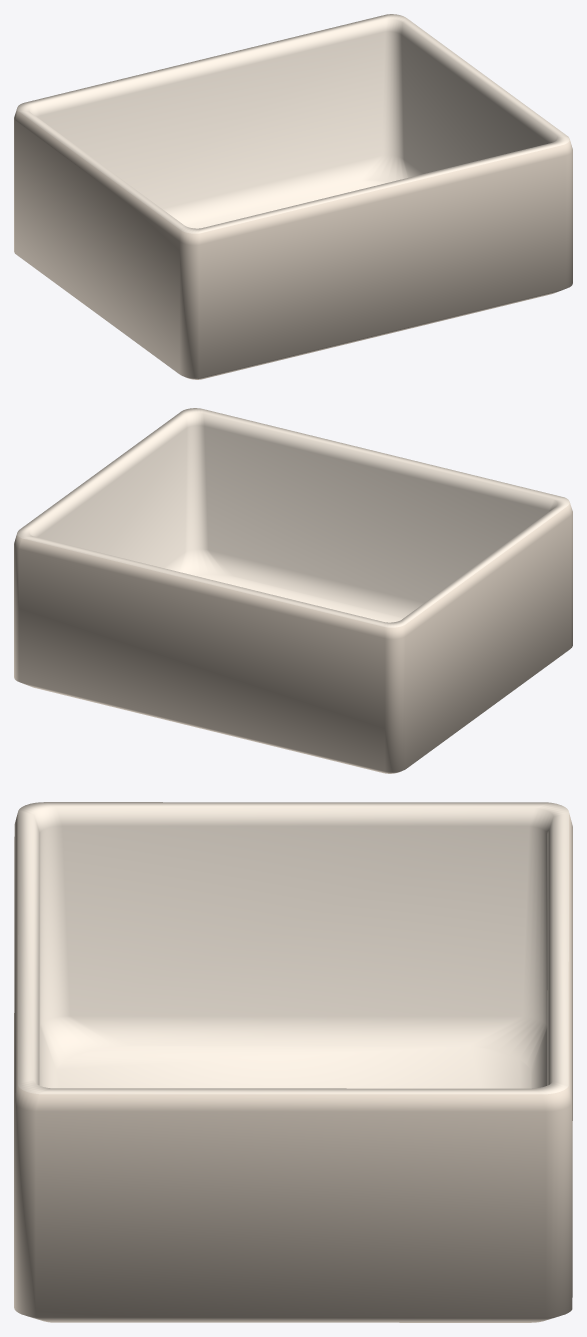
The model's file is box-interior.b9572512b5ba.glb.
3 views of the same model, one above another, from view 1: azimuth 30°, elevation 25°; view 2: azimuth 150°, elevation 25°; view 3: azimuth 270°, elevation 25° (orthographic). The views are drawn at different scales.
Visible parts, largest first — view 1: Continuous_inner_shell; view 2: Continuous_inner_shell; view 3: Continuous_inner_shell.
Boxes of the visible parts, box(x1,y1,x2,y2) form: Continuous_inner_shell: box(14, 14, 572, 379); Continuous_inner_shell: box(14, 408, 572, 773); Continuous_inner_shell: box(14, 802, 572, 1322).
Bounding box in the file's own units: 0.2 × 0.074 × 0.16.
